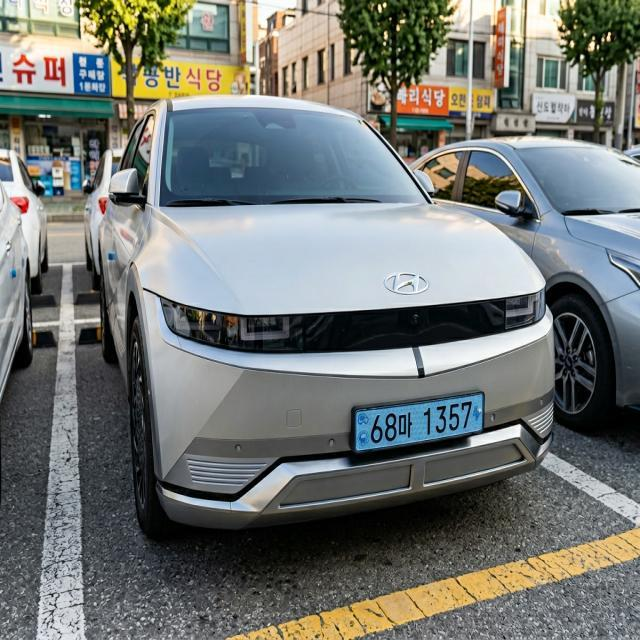car: (341, 383, 498, 470)
carev: (352, 405, 371, 456), (471, 390, 486, 438)
